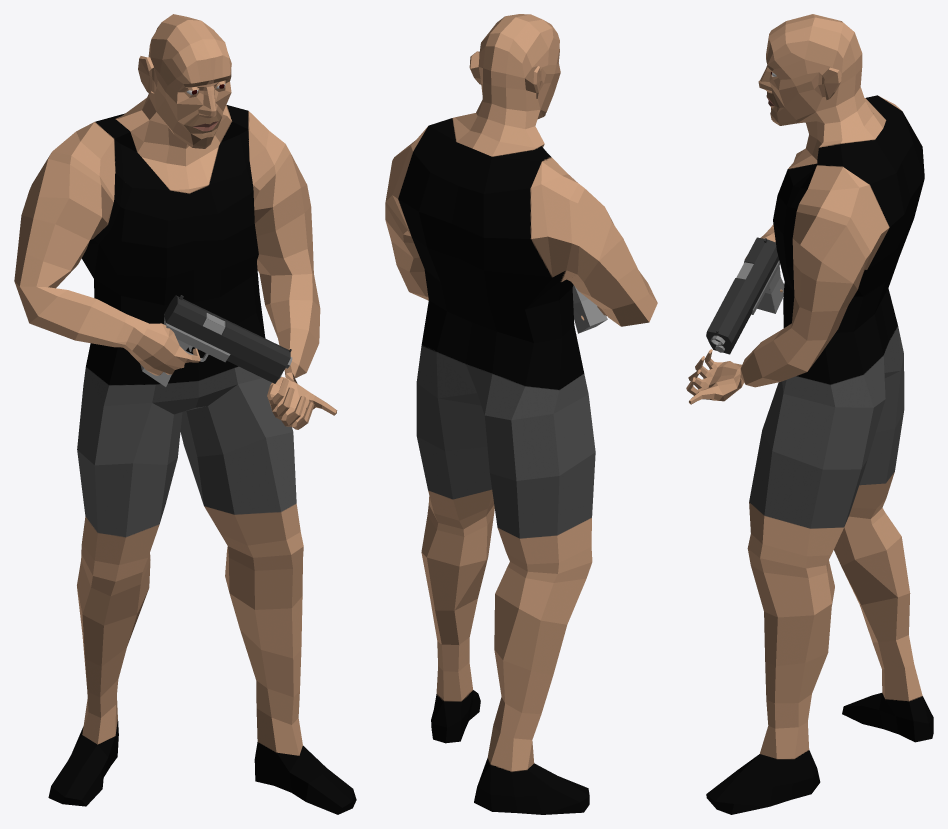
File: PlayerIdle(11).obj
The picture shows the model from 3 angles, left to right: view 1: azimuth 30°, elevation 25°; view 2: azimuth 150°, elevation 25°; view 3: azimuth 270°, elevation 25°; orthographic projection. The views are drawn at different scales.
Parts seen in each view (by area): view 1: Plane002, Box003; view 2: Plane002, Box003; view 3: Plane002, Box003.
Boxes of the visible parts, x1,y1,x2,y2 form: Plane002: (14,14,356,814); Box003: (140,295,292,386); Plane002: (385,14,657,814); Box003: (572,285,607,333); Plane002: (686,14,933,814); Box003: (706,237,784,354).
Size of the model in its own units: 677 by 1808 by 548.
